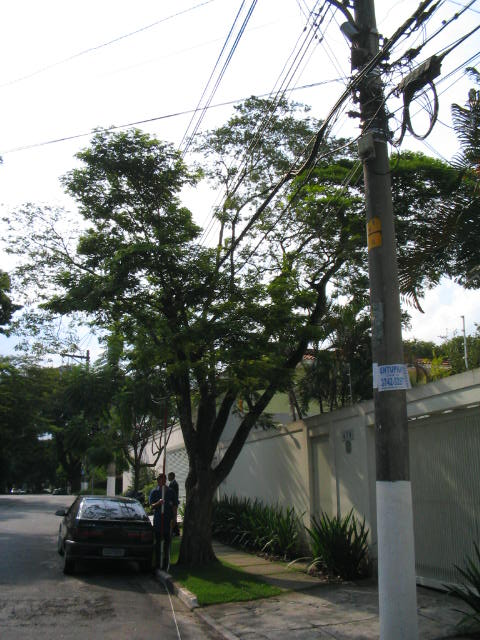crown: (43, 96, 470, 411)
stem: (173, 482, 229, 569)
stick: (154, 405, 170, 568)
tree: (40, 93, 474, 571)
